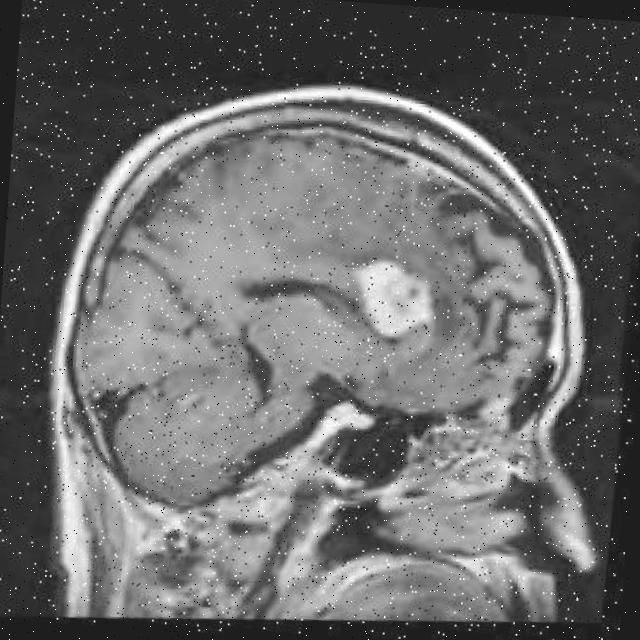LMCI: (312, 244, 494, 360)
